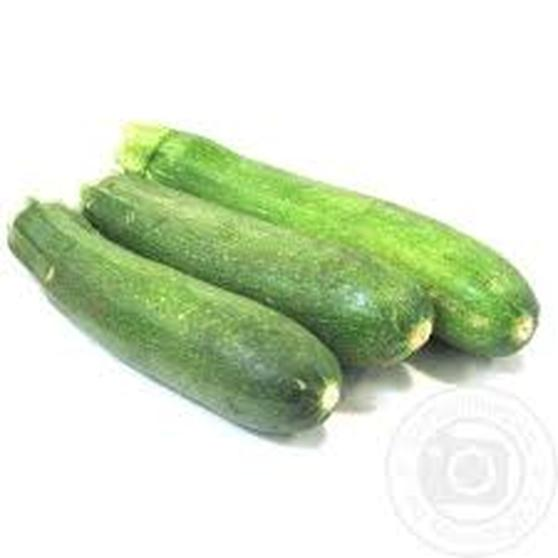zucchini: (153, 108, 556, 357)
